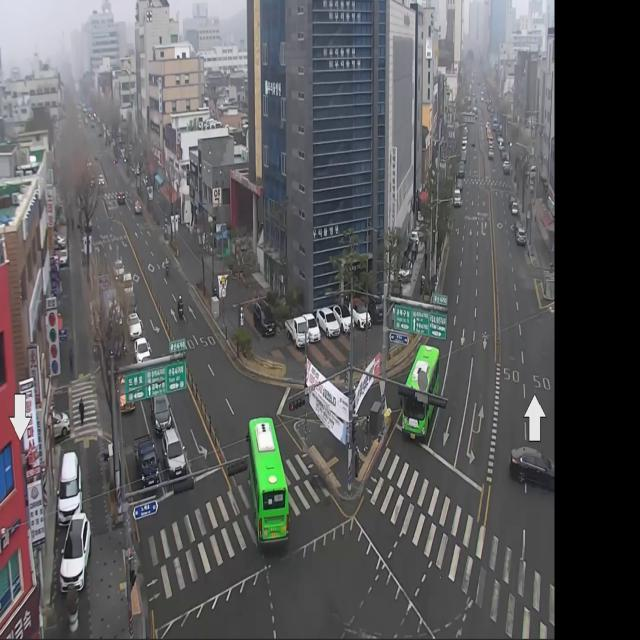bus: (175, 290, 186, 321), (163, 253, 171, 279)
car: (241, 401, 297, 565), (398, 331, 447, 447)
motorcycle: (506, 432, 554, 496), (161, 424, 188, 480), (125, 314, 145, 342)
truck: (132, 427, 160, 493)
